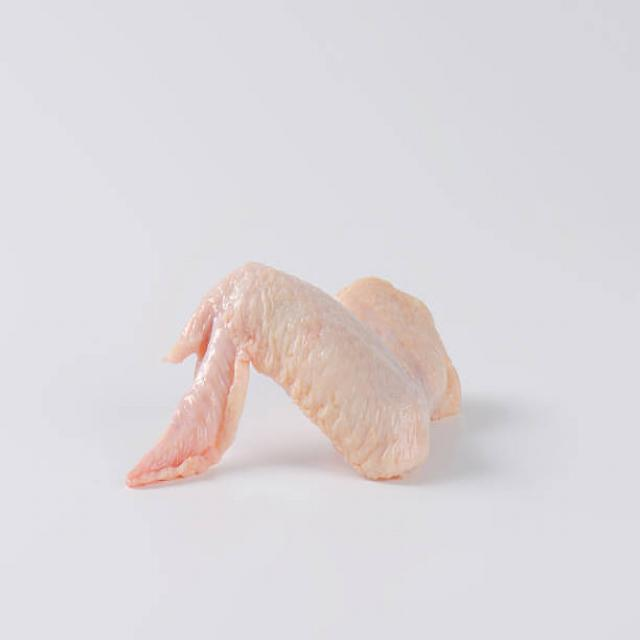Chicken Wing: (124, 249, 463, 500)
